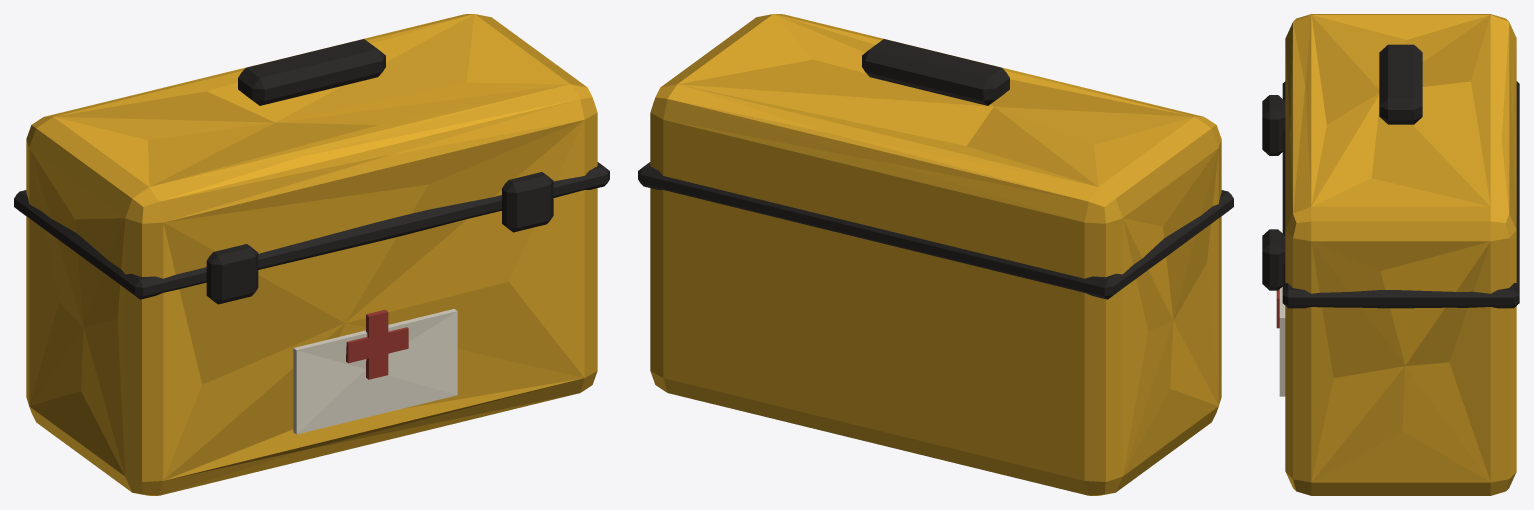
The model's file is medical_kit_ekstrennyy_idle.glb.
3 views of the same model, side by side, from view 1: azimuth 30°, elevation 25°; view 2: azimuth 150°, elevation 25°; view 3: azimuth 270°, elevation 25° (orthographic). The views are drawn at different scales.
Visible parts, largest first — view 1: medical_kit_ekstrennyy_idle; view 2: medical_kit_ekstrennyy_idle; view 3: medical_kit_ekstrennyy_idle.
Boxes of the visible parts, x1,y1,x2,y2 form: medical_kit_ekstrennyy_idle: (14, 14, 609, 495); medical_kit_ekstrennyy_idle: (638, 14, 1233, 495); medical_kit_ekstrennyy_idle: (1262, 14, 1519, 495).
Bounding box in the file's own units: 0.354 × 0.25 × 0.178.
1 material, 1 textured.
